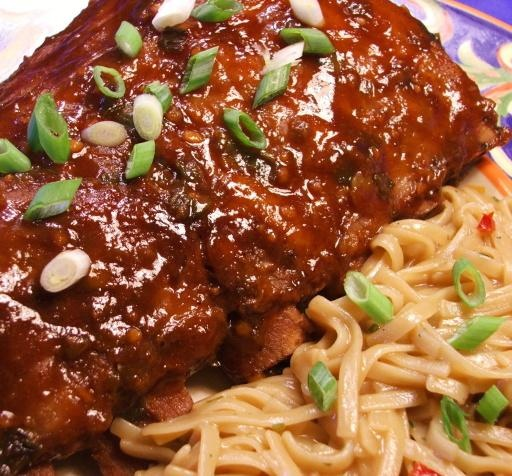background: (0, 0, 410, 354)
